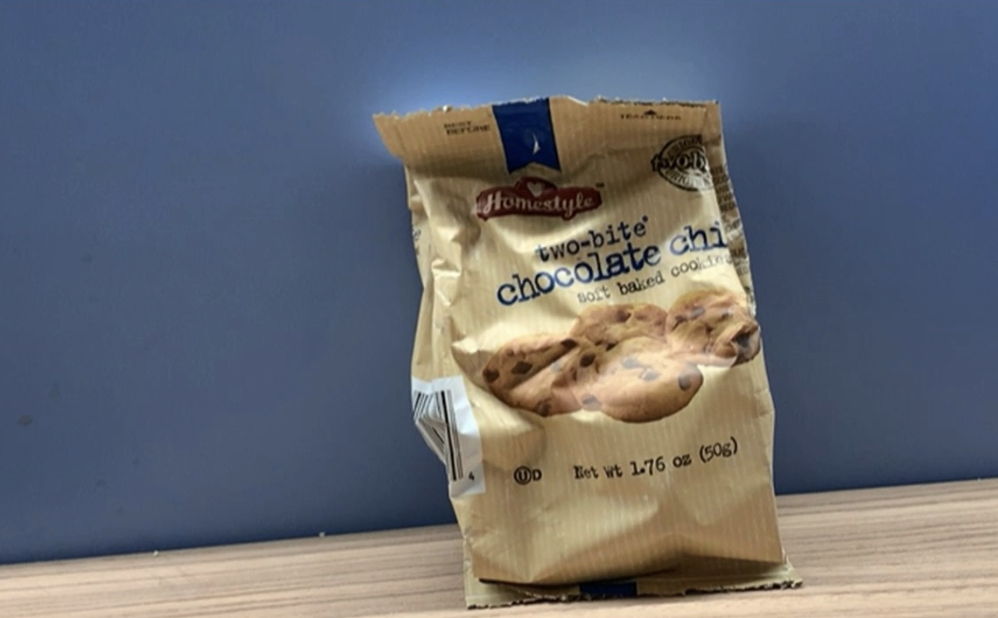cookies_50g: (467, 185, 752, 496)
